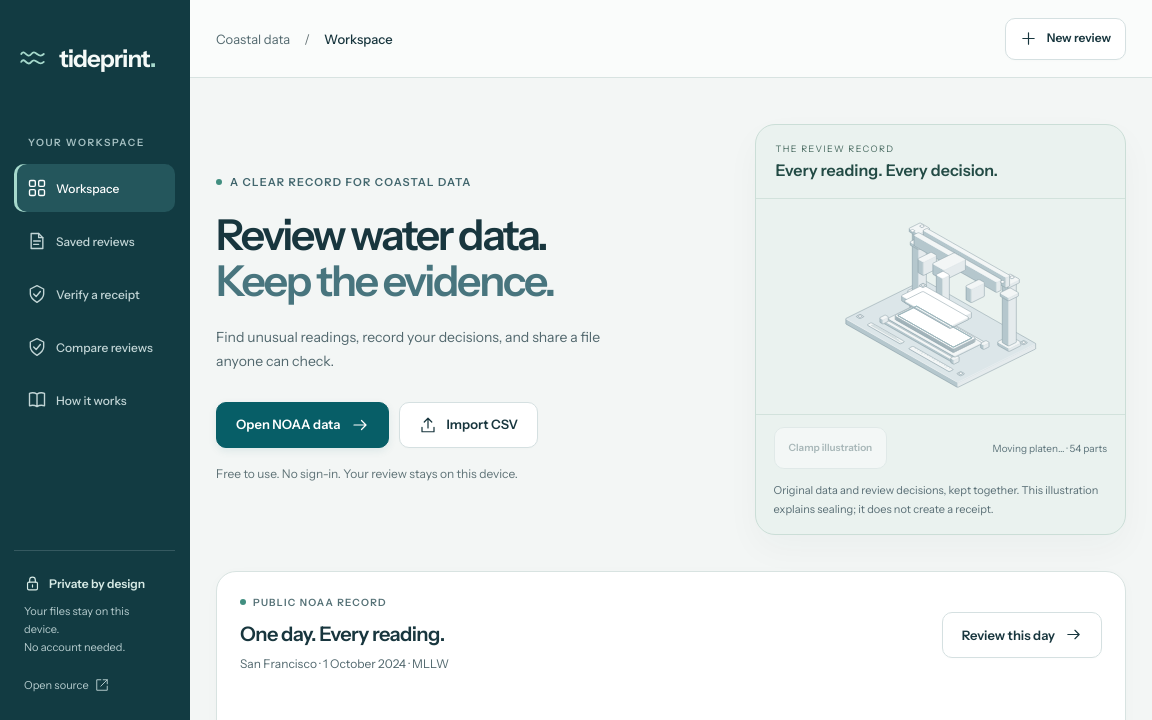
it: archived NOAA action opens original values and saves a recoverable draft
Click the button "Review this day".
click(1022, 635)  # box [942, 612, 1102, 658]
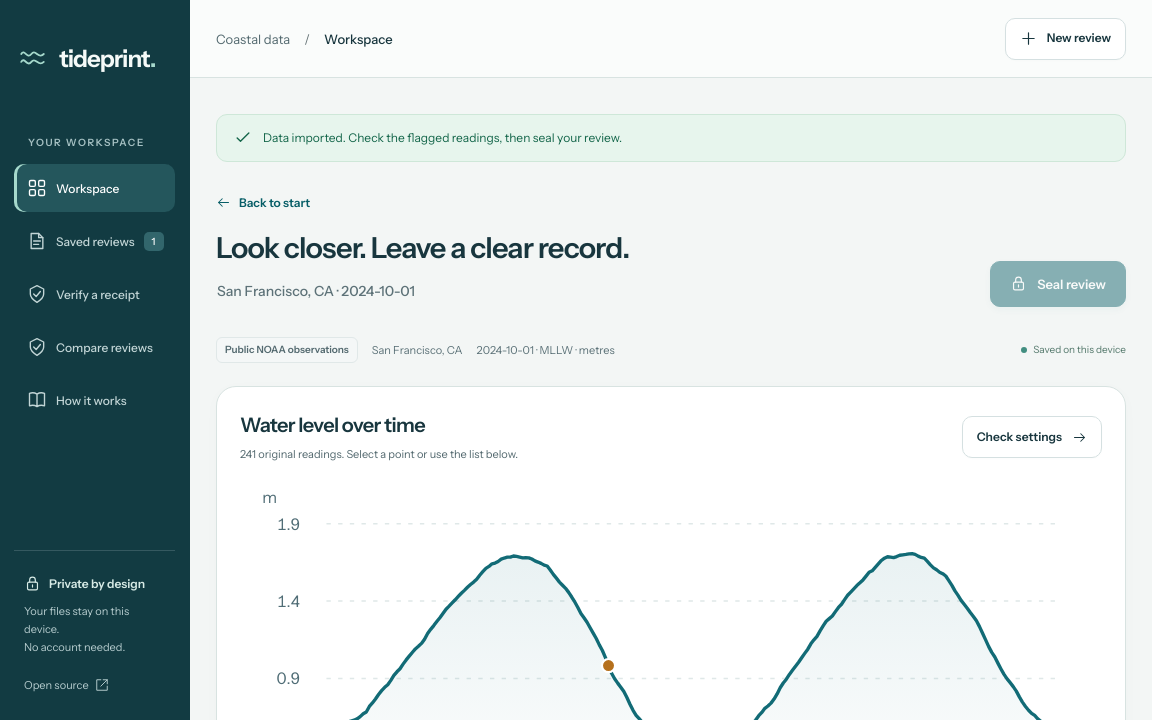
Now the text "Public NOAA observations" is shown, box [216, 337, 358, 363]
